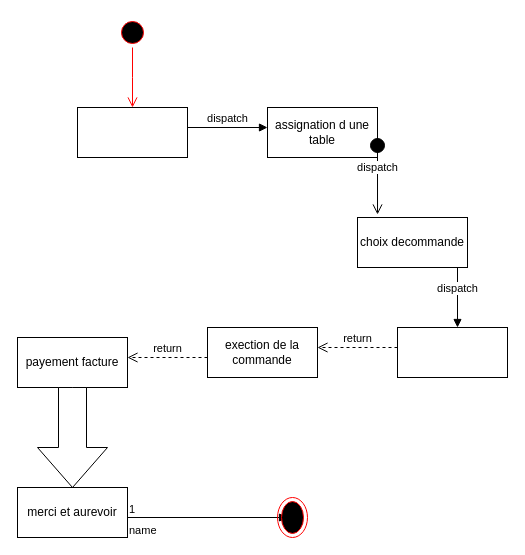
This 525x555 diagram has some shape labels left out. Here are the shapes that lost their labels. From the top down, the centre of each, then its label:
the point at 132,132: acceuille du client
the point at 452,352: recuperation de la commande
